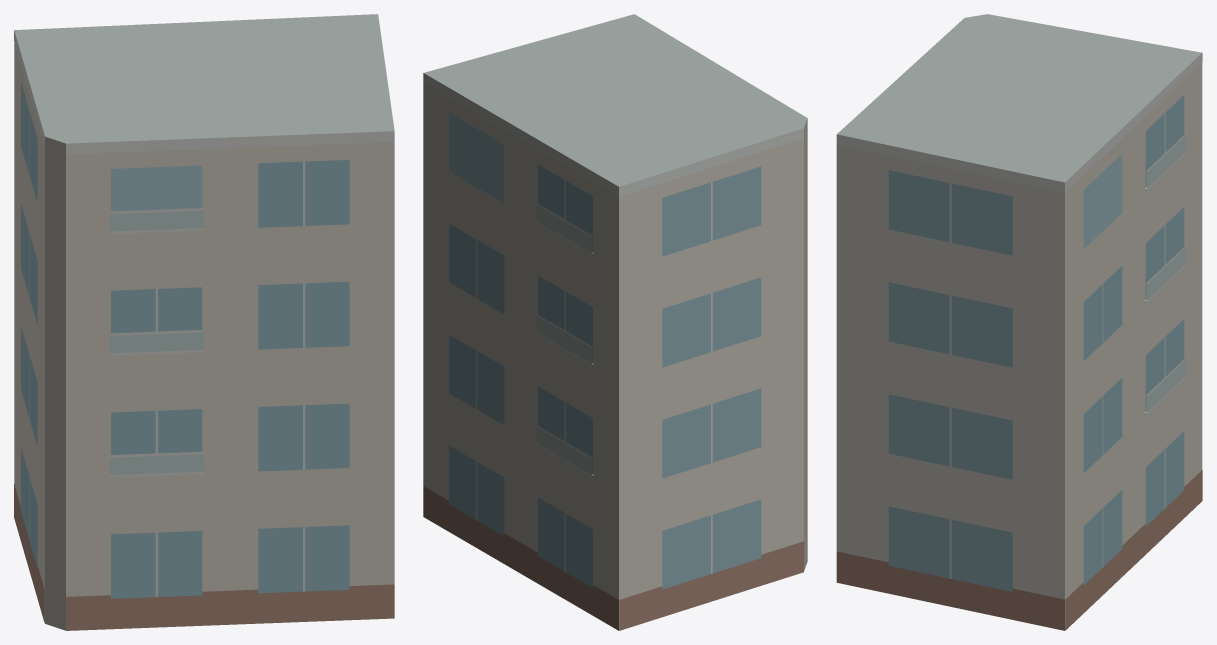
File: survey-upis-32725443.glb
3 renders of one model, left to right at view 1: azimuth 30°, elevation 25°; view 2: azimuth 150°, elevation 25°; view 3: azimuth 270°, elevation 25°, orthographic. The views are drawn at different scales.
Parts seen in each view (by area): view 1: survey-upis-32725443.tmp; view 2: survey-upis-32725443.tmp; view 3: survey-upis-32725443.tmp.
Part boxes in pixels (x1=…): survey-upis-32725443.tmp: x1=14, y1=14, x2=394, y2=630; survey-upis-32725443.tmp: x1=423, y1=14, x2=807, y2=630; survey-upis-32725443.tmp: x1=836, y1=14, x2=1202, y2=630.
Size of the model in its own units: 8.88 by 11 by 8.14.
